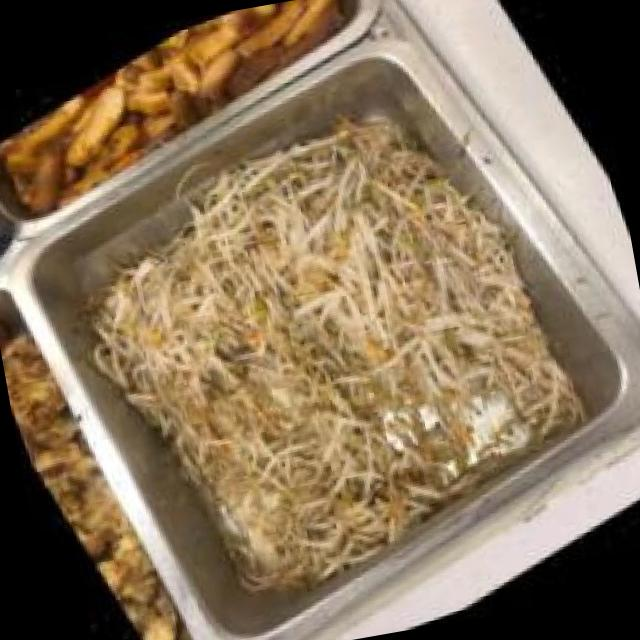mung_bean_sprouts: (29, 30, 640, 640)
